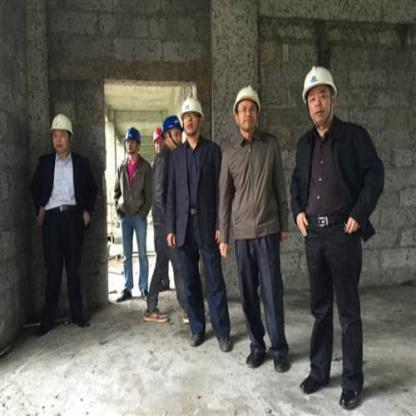helmet: (299, 59, 337, 131), (231, 79, 262, 136), (178, 92, 207, 139), (48, 109, 76, 155), (163, 114, 182, 152), (121, 125, 142, 159), (148, 124, 164, 158)
